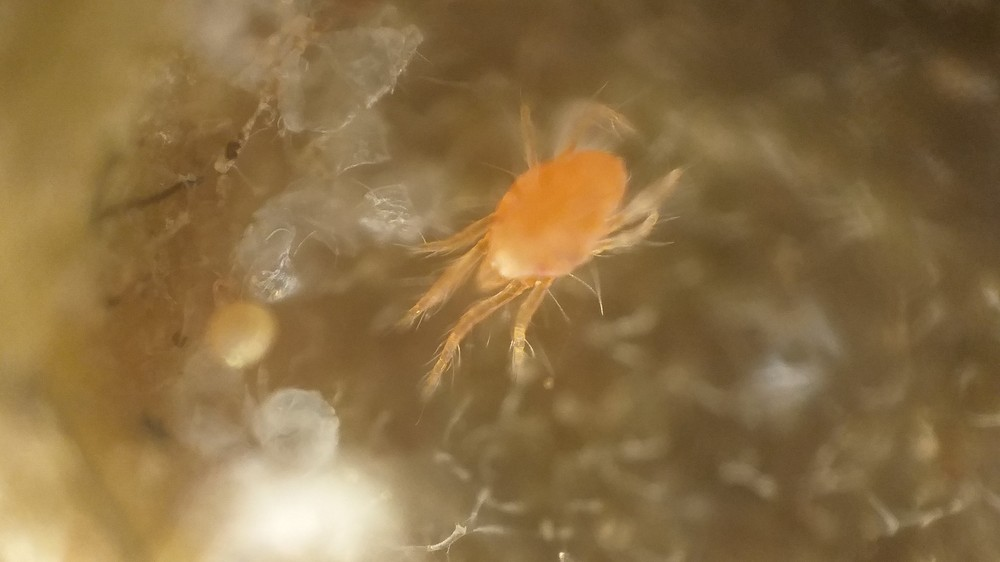Aracnido Rojo: (385, 82, 711, 417)
